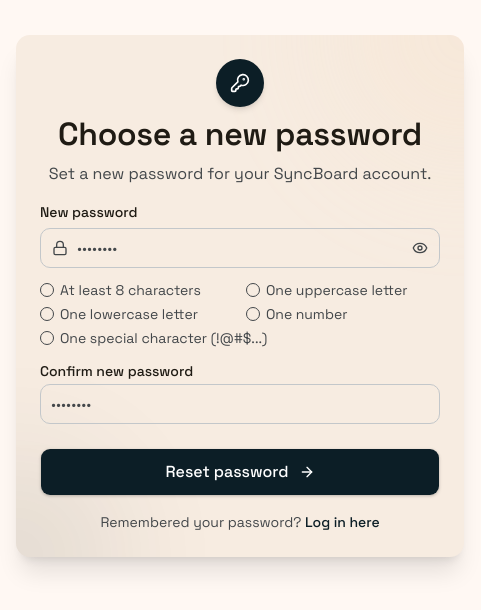
Test case: ResetPasswordPage › shows an API error message for an invalid/expired token
The width and height of the screenshot is (481, 610).
Type "correct-password1" into the password field labelled "New password".
click(240, 248); type("correct-password1")  # box top-left (40, 228), bottom-right (440, 268)
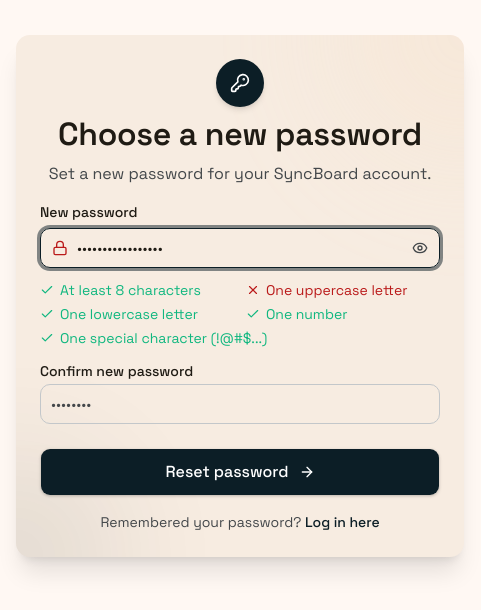
Type "correct-password1" into the password field labelled "Confirm new password".
click(240, 404); type("correct-password1")  # box top-left (40, 384), bottom-right (440, 424)
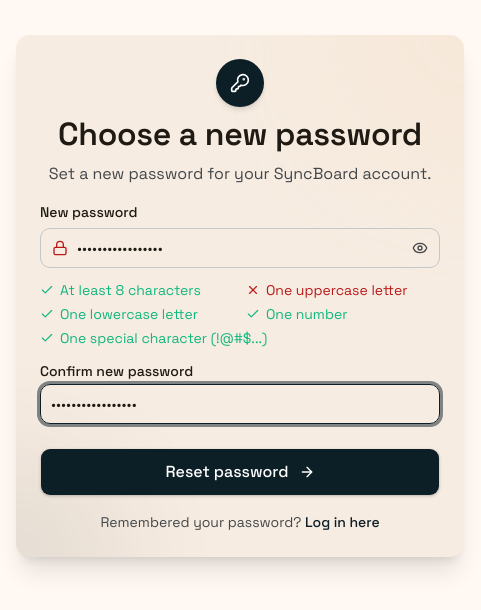
Click the button "Reset password".
click(240, 472)  # box top-left (40, 448), bottom-right (440, 496)
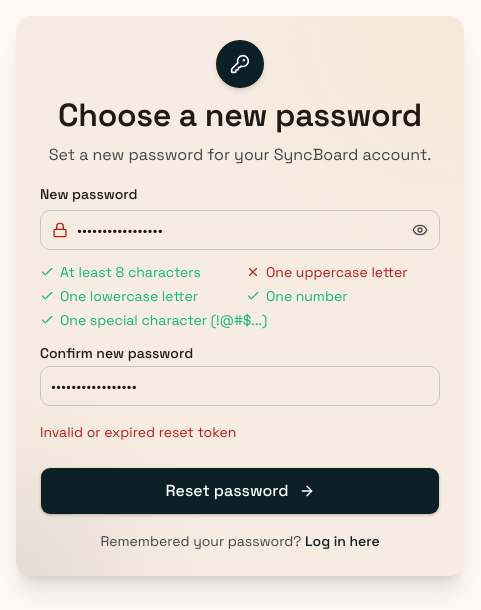
Now the text "Invalid or expired reset token" is shown, box top-left (40, 423), bottom-right (236, 441)
